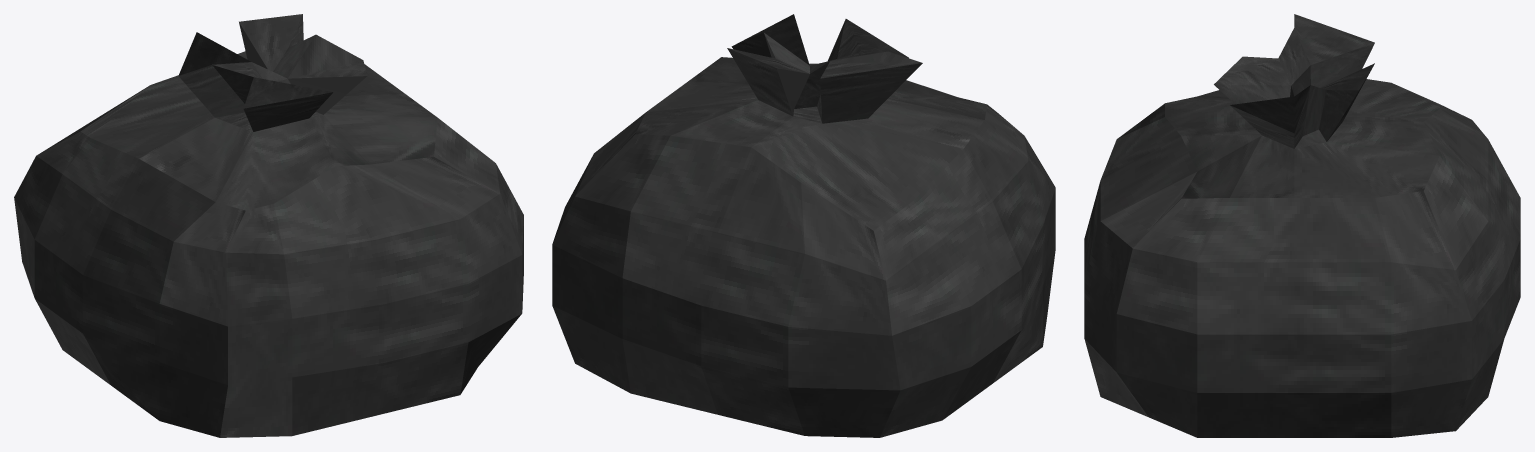
Rendered from trash.glb.
3 views of the same model, side by side, from view 1: azimuth 30°, elevation 25°; view 2: azimuth 150°, elevation 25°; view 3: azimuth 270°, elevation 25° (orthographic). The views are drawn at different scales.
Parts seen in each view (by area): view 1: mesh; view 2: mesh; view 3: mesh.
Part boxes in pixels (<box>): mesh: <box>14,14,523,437</box>; mesh: <box>552,14,1055,437</box>; mesh: <box>1084,14,1520,437</box>.
Bounding box in the file's own units: 0.6431 × 0.5099 × 0.6202.
Materials: 1 (1 with a texture image).
